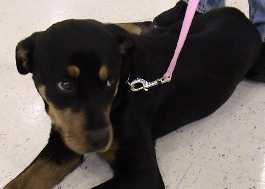Dog: (16, 20, 153, 154)
